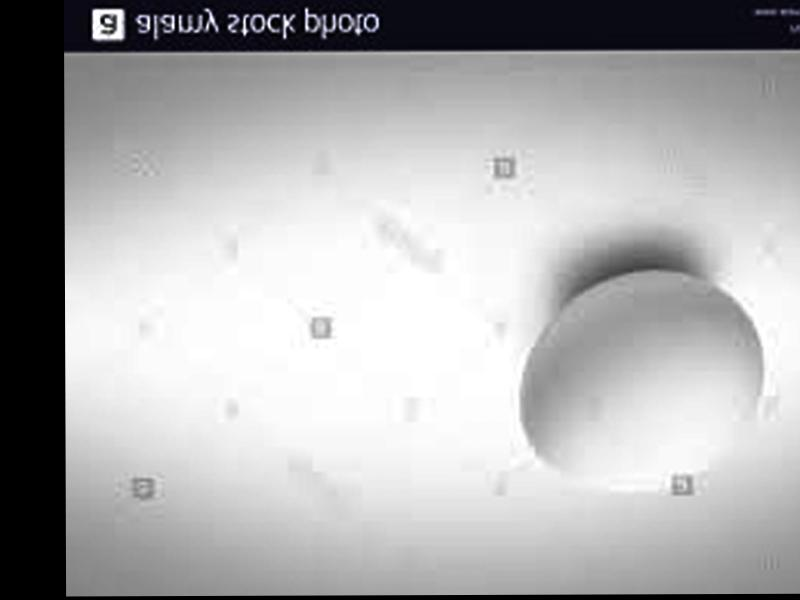Eggs: (522, 268, 767, 489)
